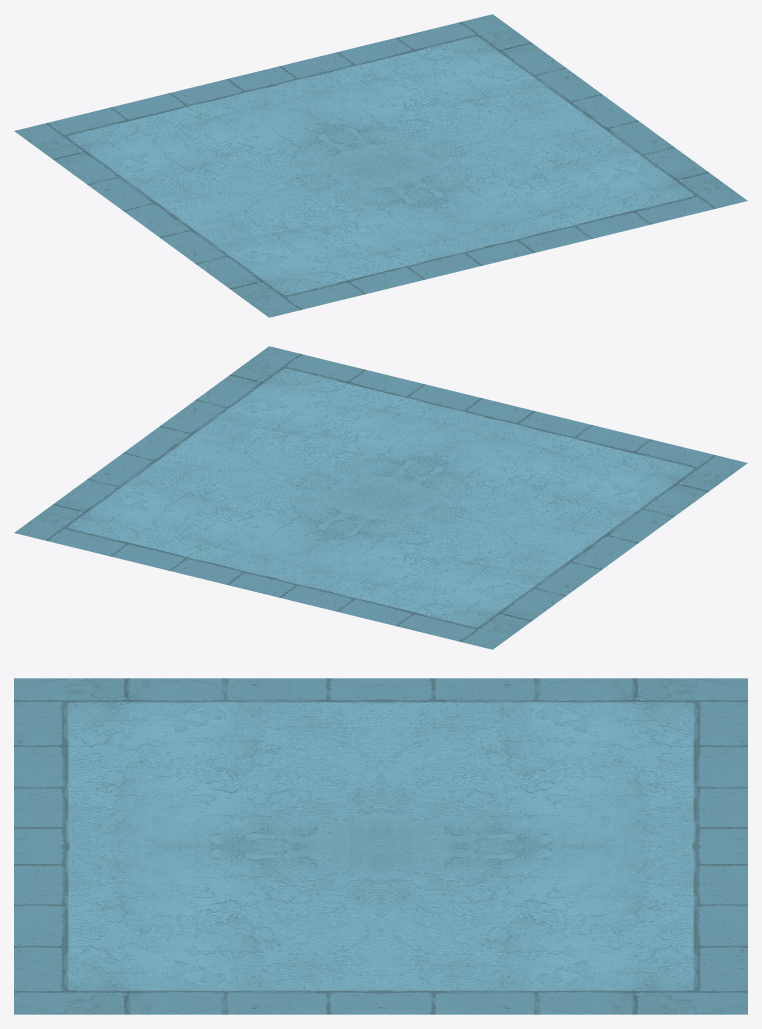
Rendered from 2_ceiling.fbx.
The picture shows the model from 3 angles, top to bottom: view 1: azimuth 30°, elevation 25°; view 2: azimuth 150°, elevation 25°; view 3: azimuth 270°, elevation 25°; orthographic projection. The views are drawn at different scales.
Parts seen in each view (by area): view 1: 2_ceiling; view 2: 2_ceiling; view 3: 2_ceiling.
Boxes of the visible parts, x1,y1,x2,y2 form: 2_ceiling: (14, 14, 747, 317); 2_ceiling: (14, 346, 747, 649); 2_ceiling: (14, 678, 747, 1014).
Size of the model in its own units: 354 by 326 by 8.43e-05.
Materials: 1 (1 with a texture image).
